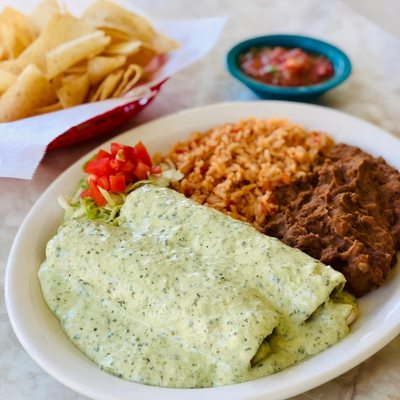sushi: (225, 33, 352, 99)
